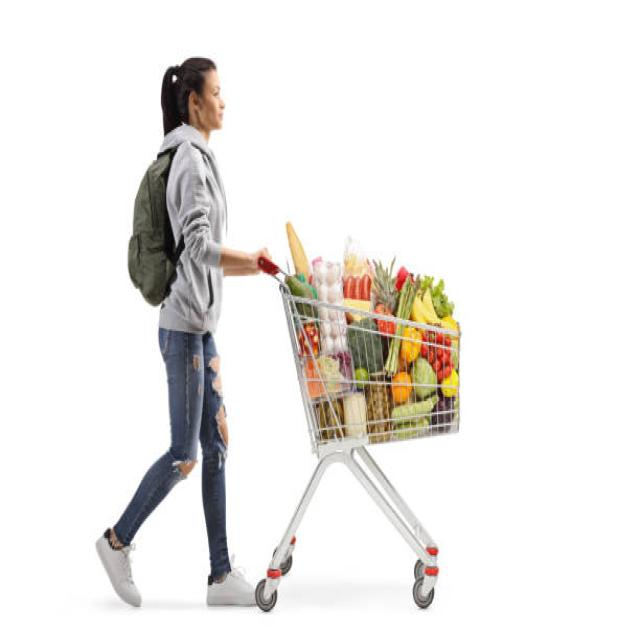Person: (96, 58, 270, 607)
